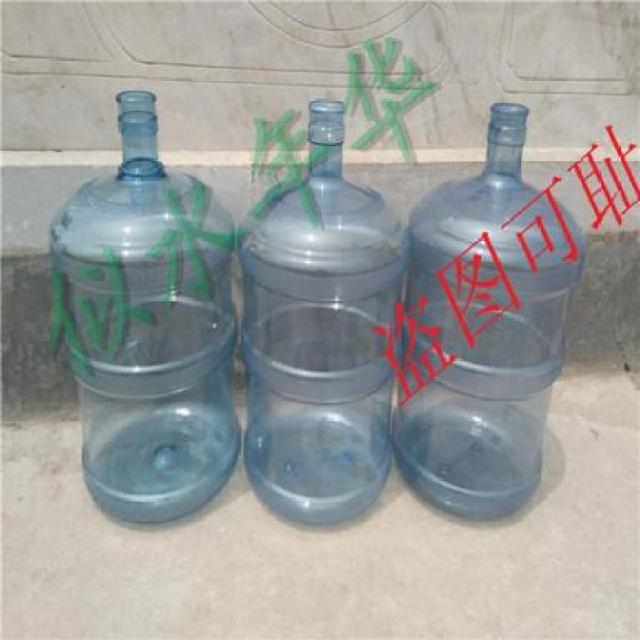coolerbottle: (44, 86, 246, 535), (386, 100, 589, 526), (238, 95, 418, 531)
